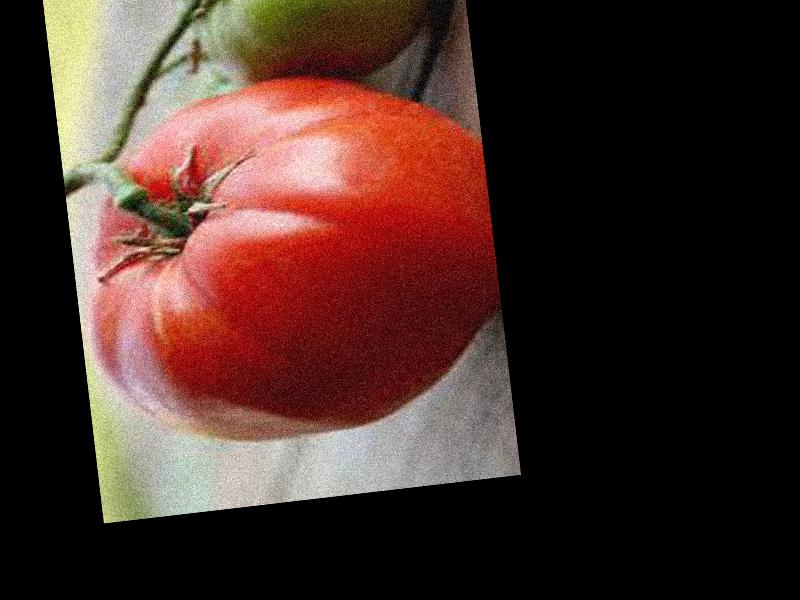Tomato: (63, 58, 514, 461)
